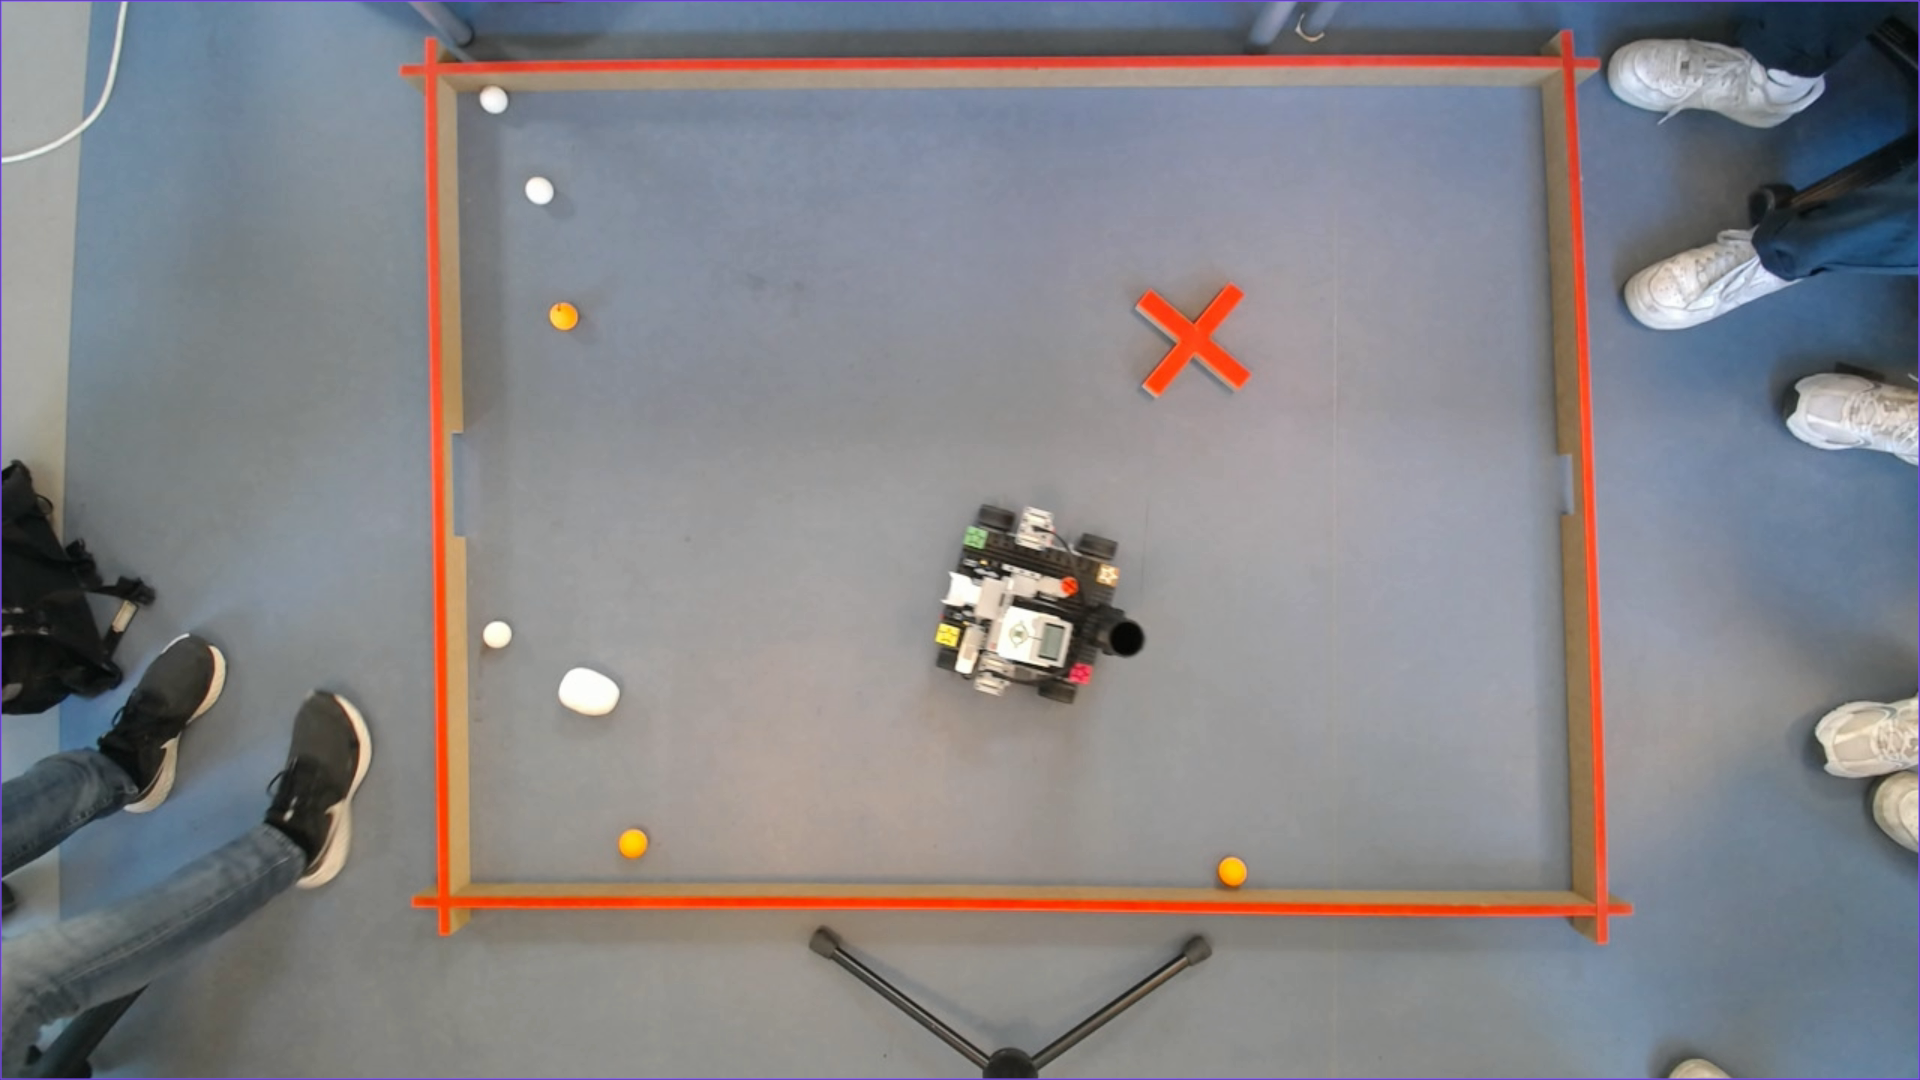ball_orange: (1218, 856, 1247, 887), (618, 829, 647, 858), (549, 302, 578, 330)
ball_white: (479, 84, 509, 113), (525, 175, 554, 204), (483, 621, 512, 649)
corner_brown: (1096, 564, 1120, 587)
corner_green: (963, 526, 988, 549)
corner_pink: (1069, 662, 1093, 684)
corner_yellow: (934, 622, 960, 647)
cross: (1137, 284, 1251, 396)
egg: (558, 667, 621, 716)
playfield: (425, 55, 1609, 915)
